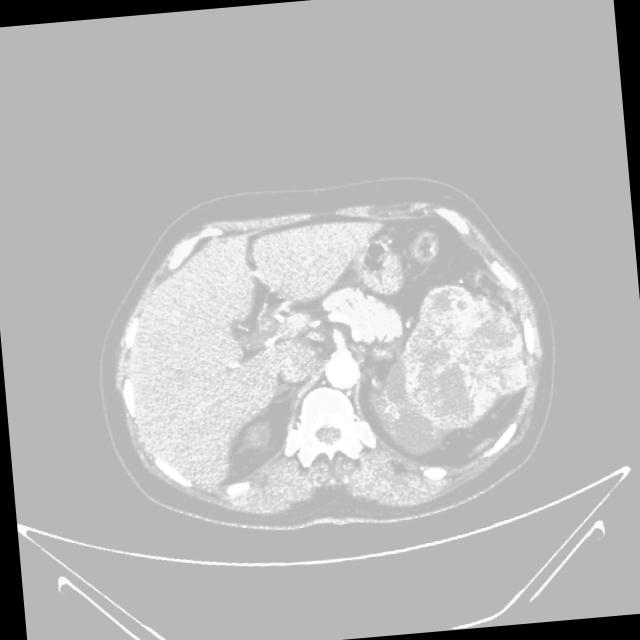TUMOR: (282, 232, 561, 481)
